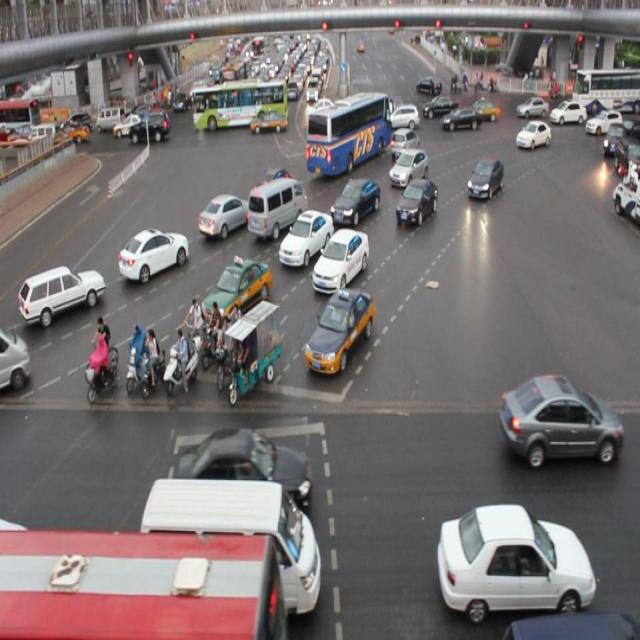car: (434, 499, 596, 614), (498, 368, 621, 466), (180, 426, 314, 509), (305, 288, 375, 375), (19, 262, 106, 323), (201, 259, 272, 323), (117, 225, 191, 280), (313, 228, 370, 292), (278, 210, 332, 268), (329, 177, 379, 227), (198, 193, 251, 240), (393, 180, 439, 223), (251, 165, 296, 204), (465, 156, 502, 200), (388, 150, 427, 185), (514, 121, 549, 149), (390, 128, 420, 158)
truck: (140, 474, 321, 620), (247, 182, 307, 240), (1, 319, 31, 396)
van: (0, 527, 288, 640), (306, 93, 392, 174)
